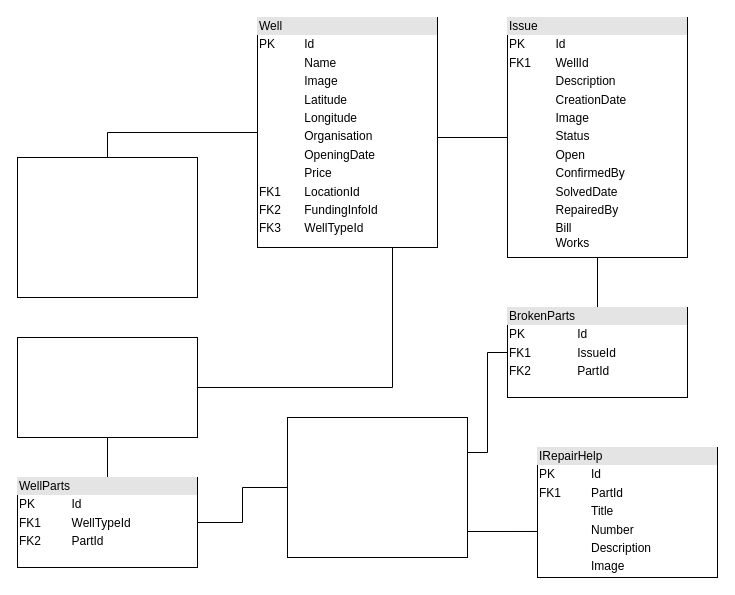
Some shapes in this 735 by 595 pixel diagram are drawn without their labels. The centre of each missing label's shape, as x and y in pixels:
MaintenanceLog PK Id FK1 WellId Description Works Confirmed StatusChangedDate: [107,227]
Part PK Id Name Description: [377,487]
WellType PK Id Name Particularity: [107,387]
